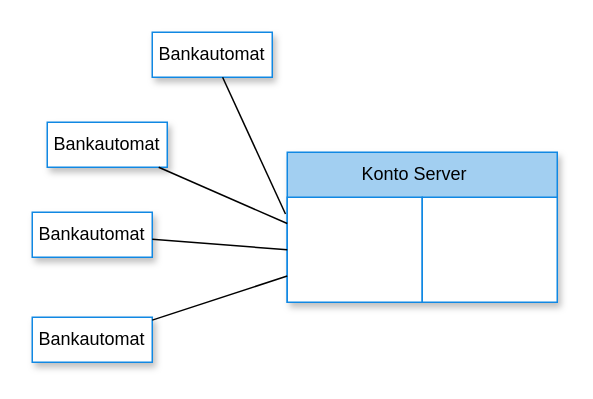
This 593x399 diagram has some shape labels left out. Each missing label, with the centre of its shape:
Fernüber-wachungs-monitor: point (354, 249)
Kundenkonto Datenbank: point (489, 249)
